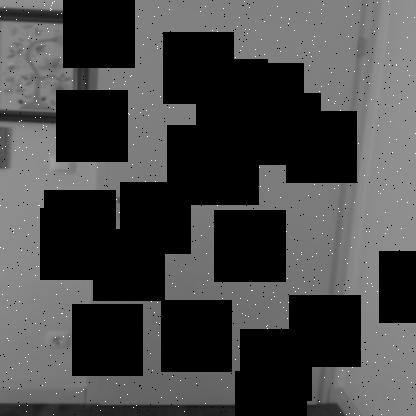Porte: (84, 0, 386, 407)
